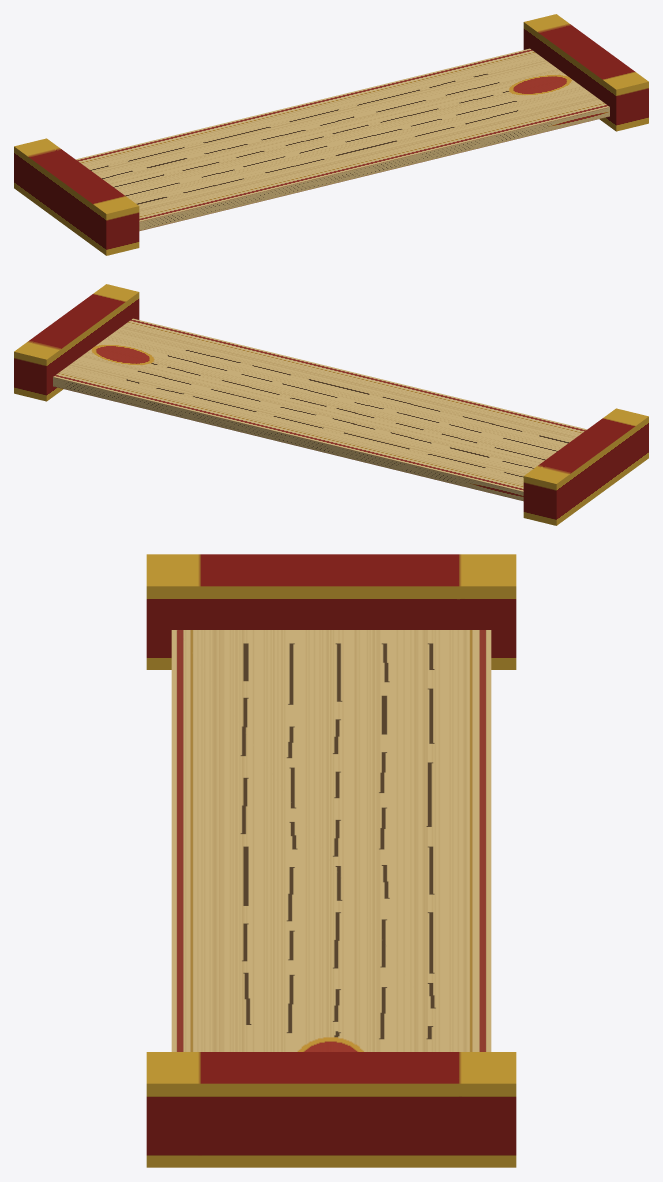
File: sen-scroll-open.glb
3 views of the same model, one above another, from view 1: azimuth 30°, elevation 25°; view 2: azimuth 150°, elevation 25°; view 3: azimuth 270°, elevation 25° (orthographic). The views are drawn at different scales.
Visible parts, largest first — view 1: scroll_sheet, scroll_rollers; view 2: scroll_sheet, scroll_rollers; view 3: scroll_sheet, scroll_rollers.
Boxes of the visible parts, x1=… form: scroll_sheet: x1=76, y1=48, x2=609, y2=231; scroll_rollers: x1=14, y1=14, x2=648, y2=255; scroll_sheet: x1=53, y1=318, x2=586, y2=501; scroll_rollers: x1=14, y1=284, x2=648, y2=525; scroll_sheet: x1=171, y1=630, x2=491, y2=1051; scroll_rollers: x1=146, y1=554, x2=516, y2=1167.
Size of the model in its own units: 1.49 by 0.11 by 0.44.
2 materials, 2 textured.
